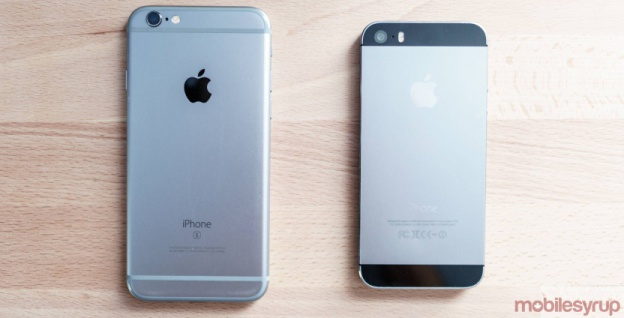apple: (402, 65, 452, 123), (173, 58, 224, 114)
